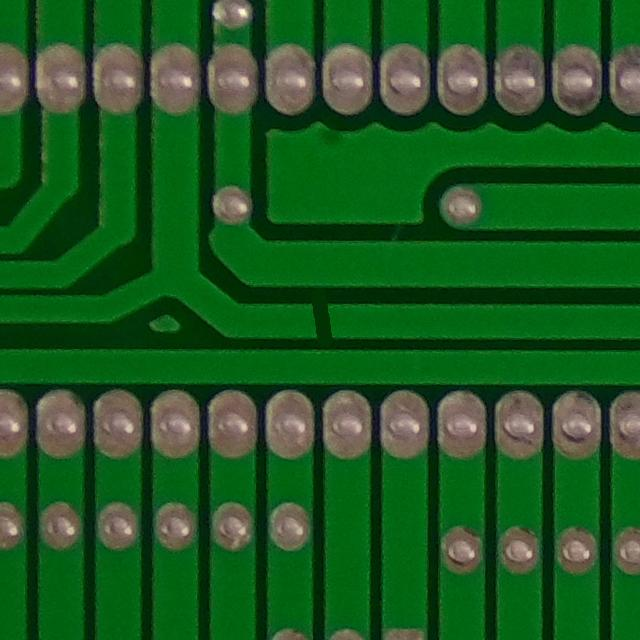open_circuit: (289, 293, 352, 347)
